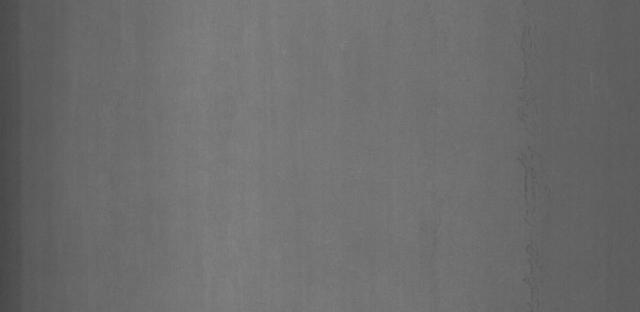silk_spot: (506, 40, 564, 287)
